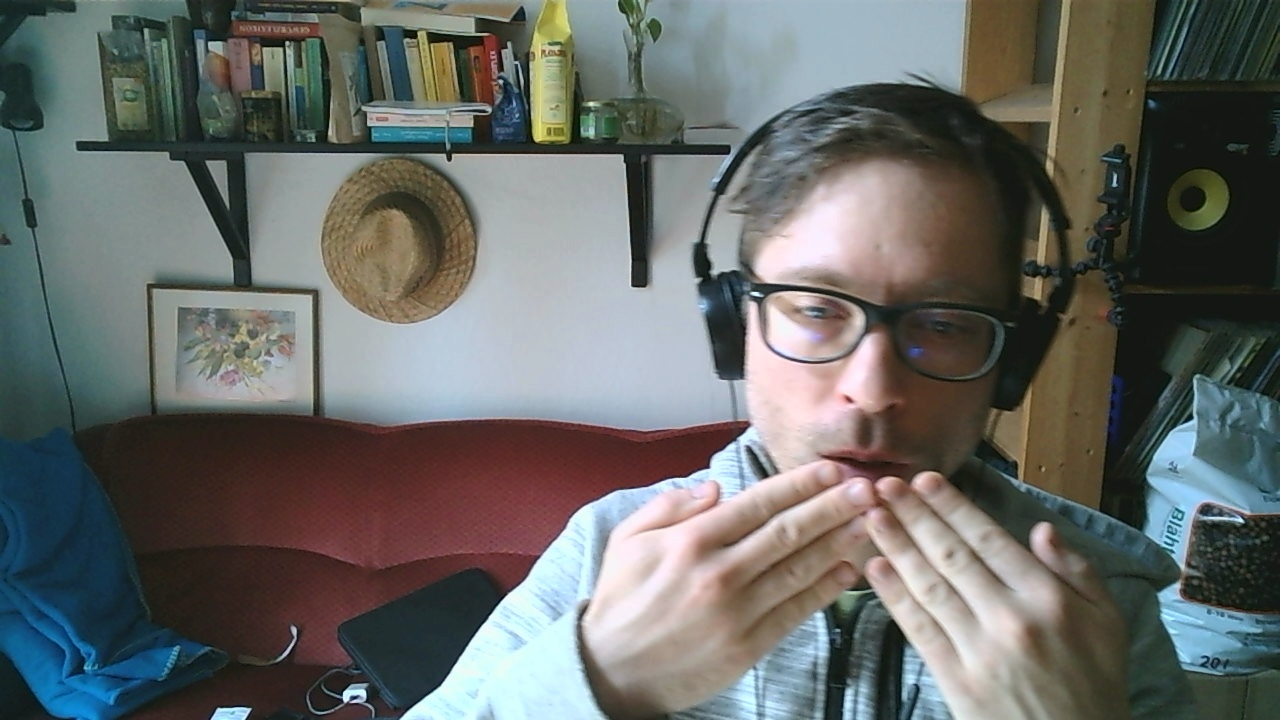thanks: (586, 454, 1130, 720)
